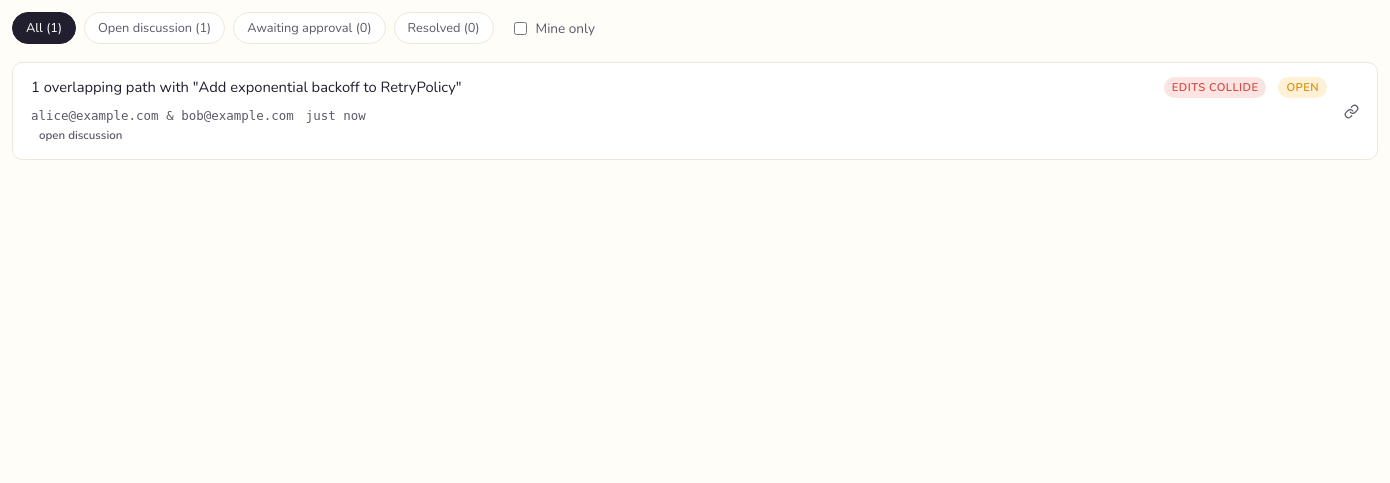
Test: ConflictsView › readOnly skips fetching reviews entirely and hides a thread's reply/close UI
Click the button "overlapping path with" at (246, 87), box [13,63,1377,159]
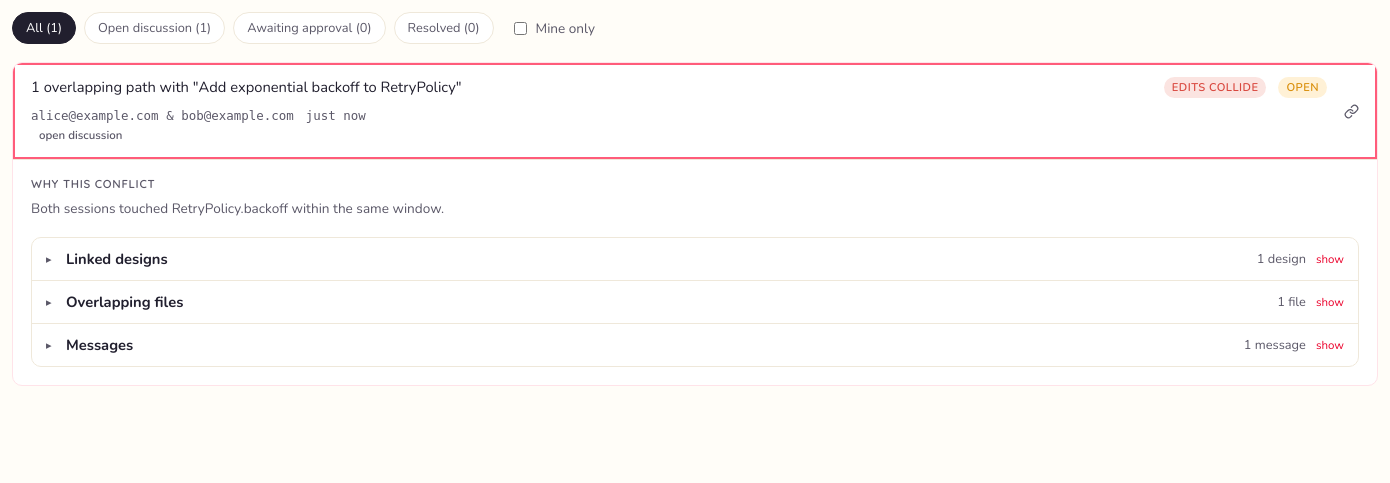
Note: Messages is collapsed by default -- open it before its content is reachable.
Click the button "▸ Messages 1 message show" at (100, 345), box [32,324,1358,366]
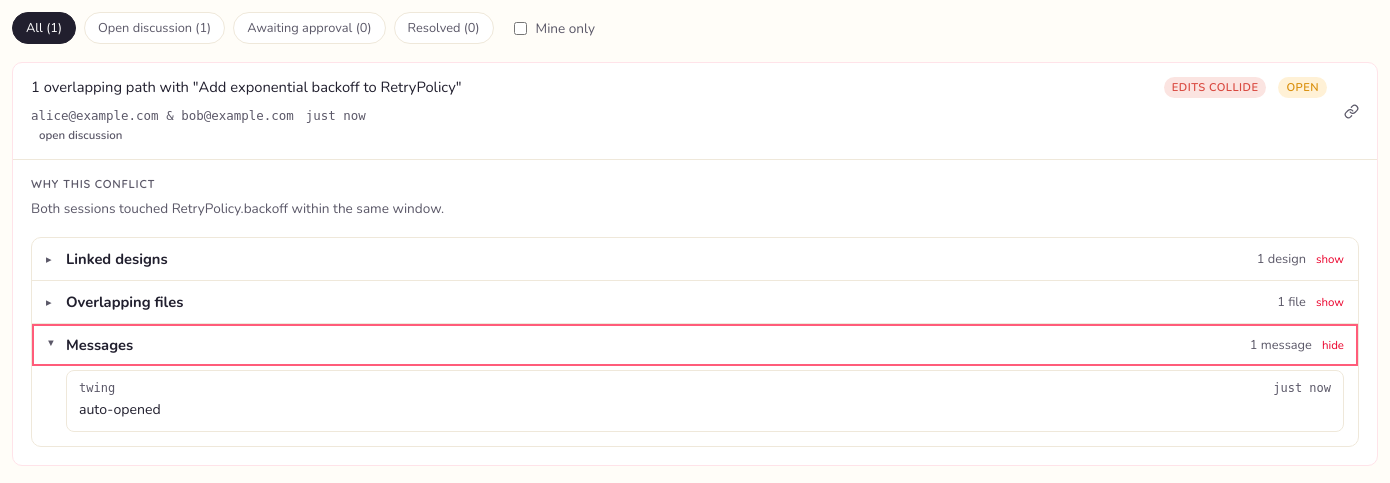
Check: the text "auto-opened" is shown, box [79,400,161,419]
